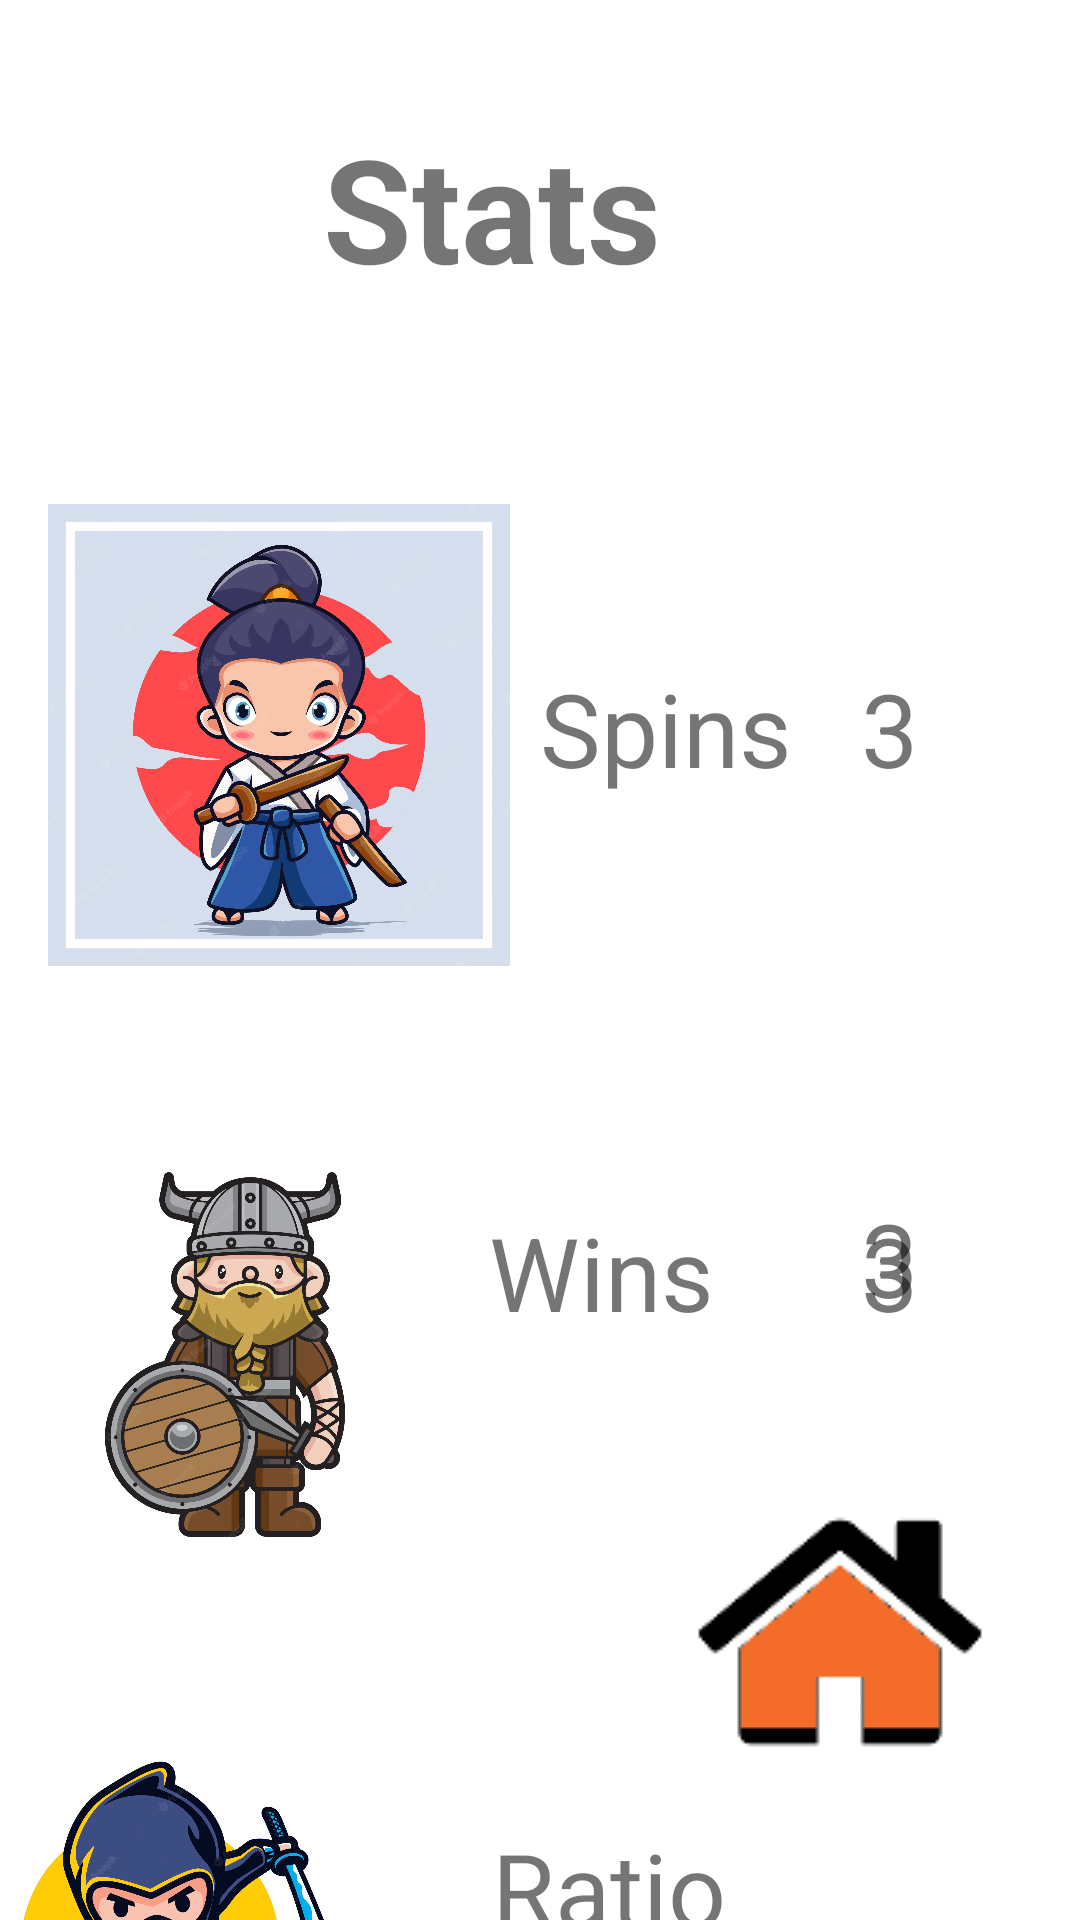

Locate icon controls on the screen. Image size 1080 × 1920, boxes as (x1, y1, x2, y2).
home: (698, 1518, 982, 1747)
